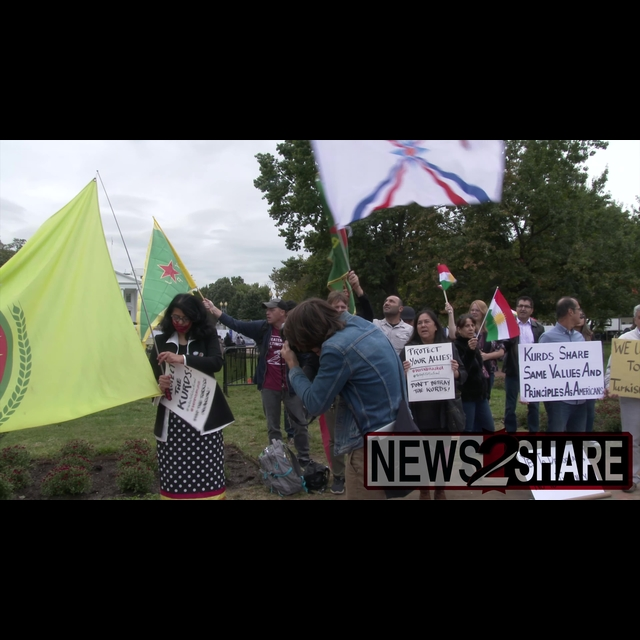IBKY: (491, 304, 511, 333)
